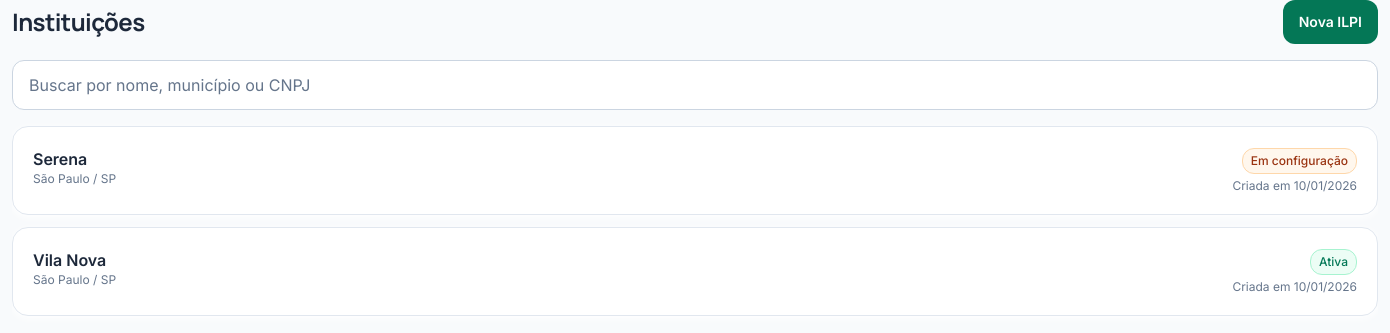
Test case: Central — listagem › 10. busca filtra a lista carregada
Expected: the text "Serena" is shown, [33,149,87,169]
Type "Vila" into the field named "Buscar instituições". click: (695, 85)
box: [12,60,1378,110]
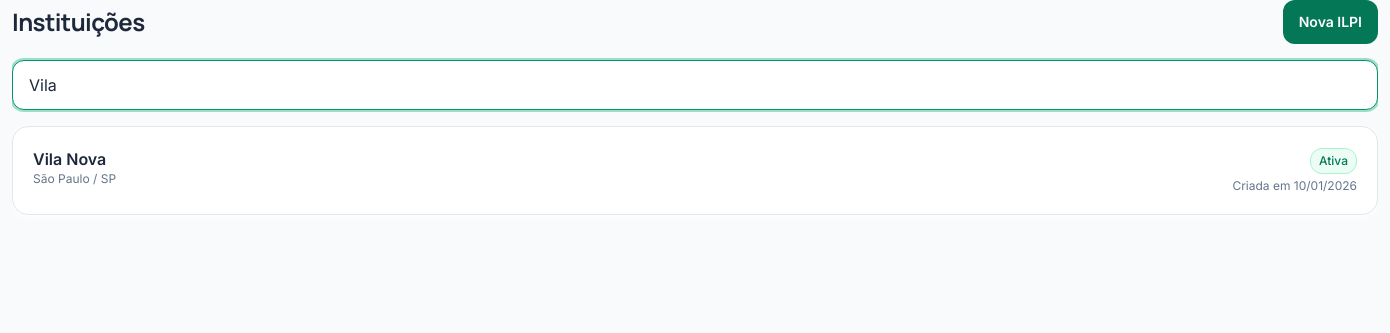
Expected: the text "Vila Nova" is shown, [33,147,116,171]
Expected: the link "Serena" is gone
